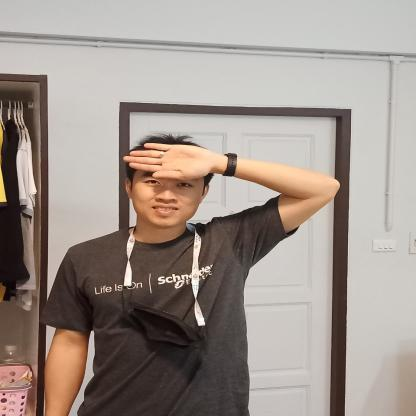Sick: (112, 130, 351, 229)
